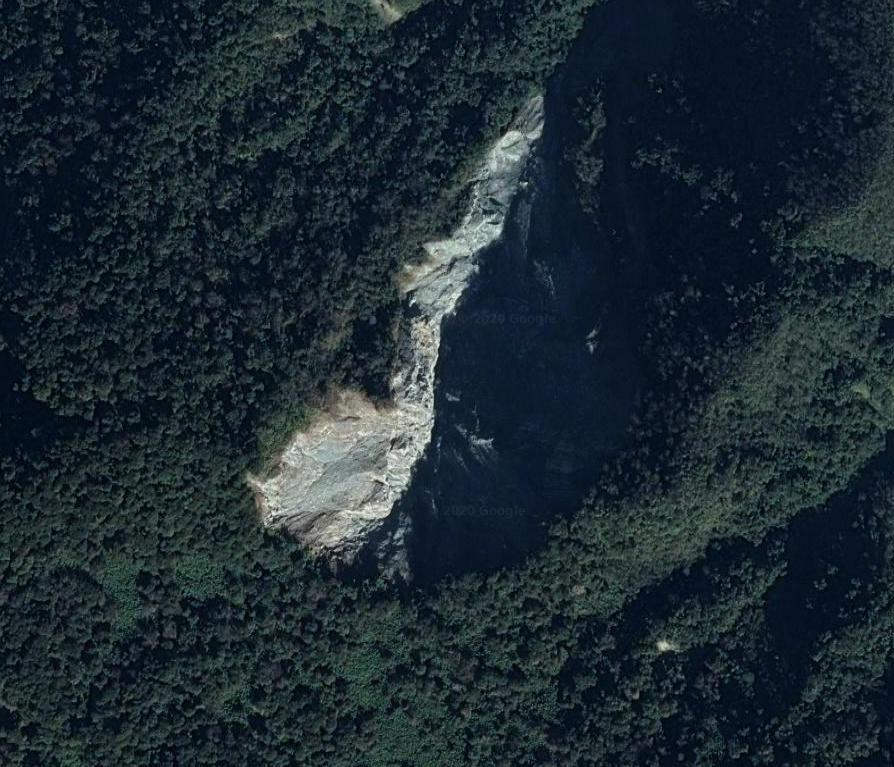slope: (244, 94, 570, 576)
